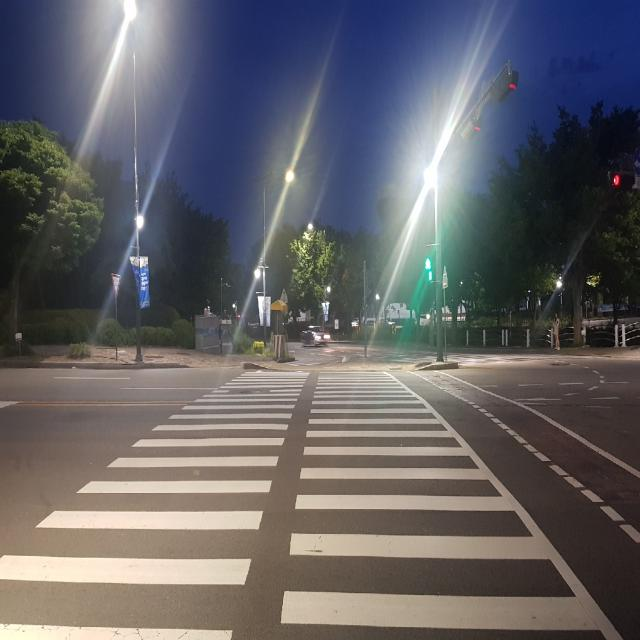초록불: (424, 245, 435, 279)
횡단보도: (0, 368, 600, 640)
